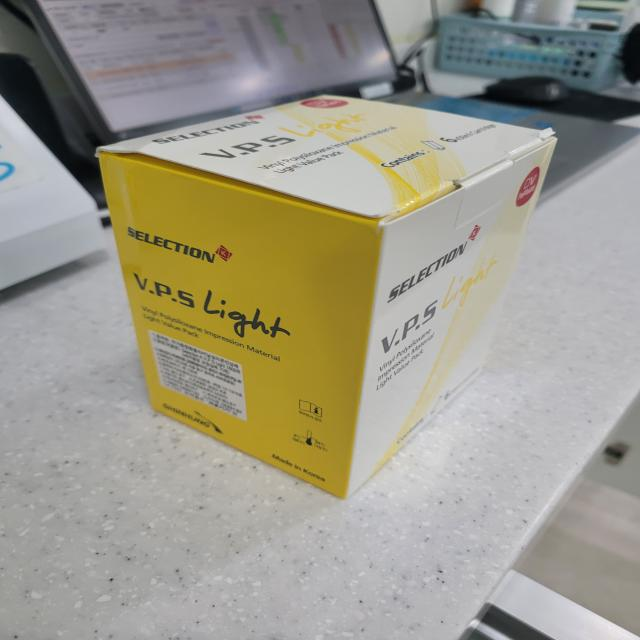impression: (67, 70, 569, 518)
